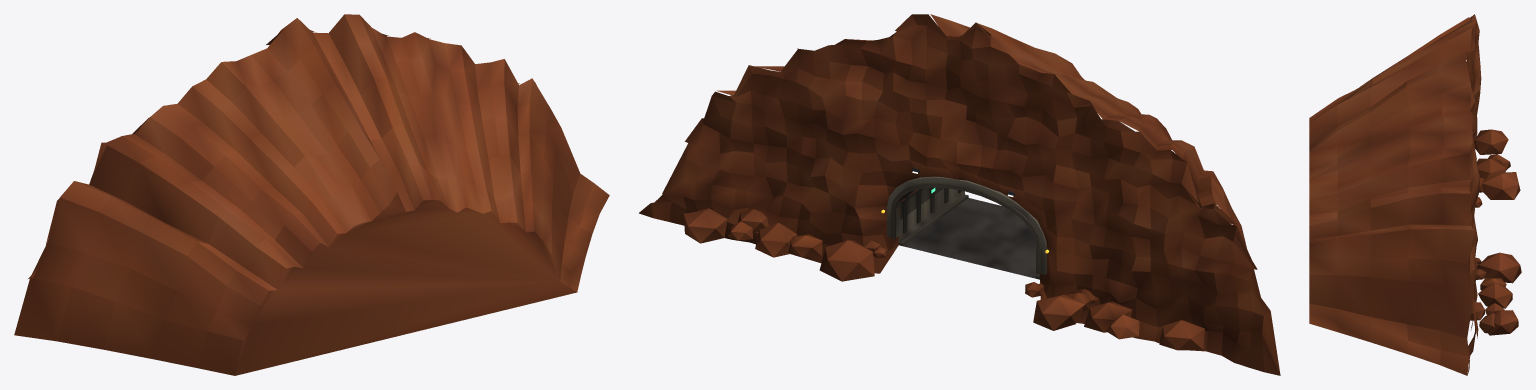
File: tunnel_portal_rock.glb
The picture shows the model from 3 angles, left to right: view 1: azimuth 30°, elevation 25°; view 2: azimuth 150°, elevation 25°; view 3: azimuth 270°, elevation 25°; orthographic projection. The views are drawn at different scales.
Parts seen in each view (by area): view 1: rock_red; view 2: rock_red, road_surface, concrete, concrete_dark; view 3: rock_red.
Boxes of the visible parts, <box> form: rock_red: <box>14,14,609,375</box>; rock_red: <box>639,14,1280,375</box>; road_surface: <box>903,198,1038,278</box>; concrete: <box>887,176,1047,274</box>; concrete_dark: <box>891,183,1040,279</box>; rock_red: <box>1309,14,1521,375</box>.
Size of what is drawn, in the model's own units: 68 by 27.69 by 24.51.
